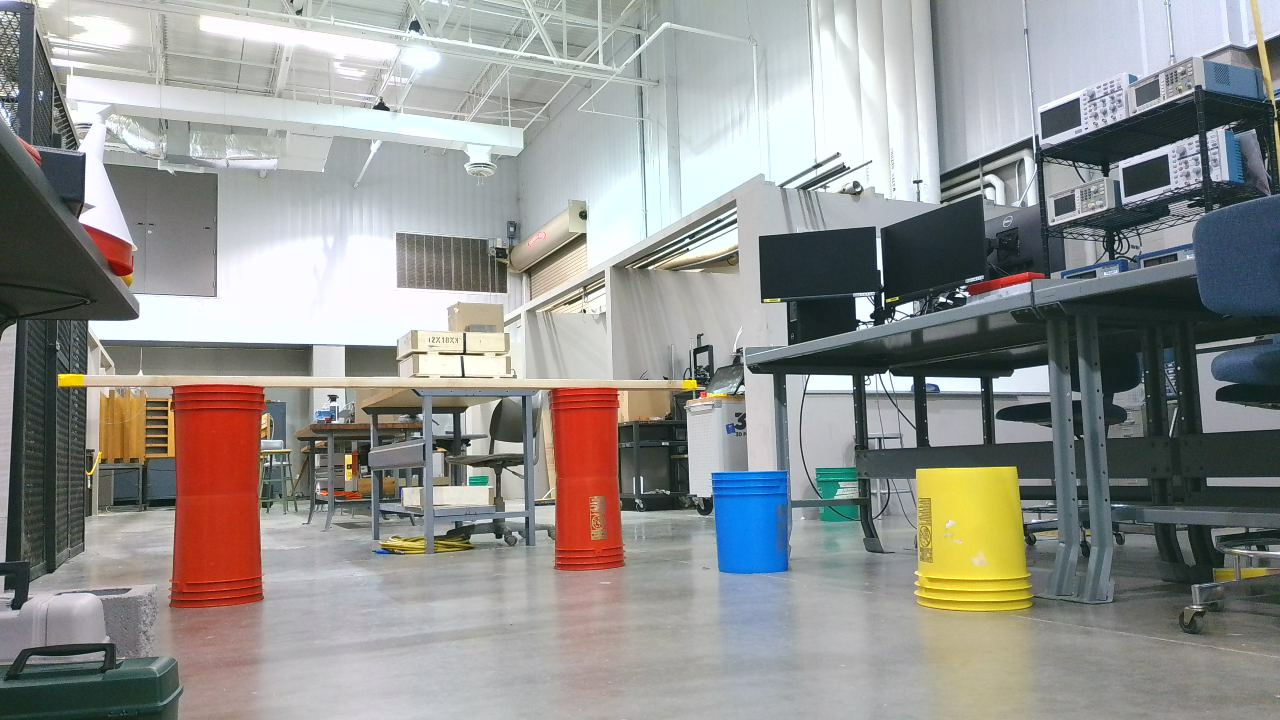blue_bucket: (714, 474, 799, 582)
red_bucket_arch: (172, 377, 632, 619)
yellow_bucket: (914, 468, 1043, 621)
